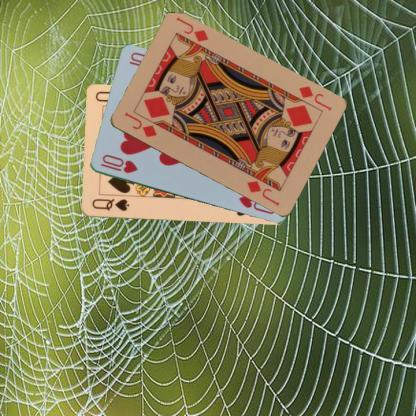10h: (98, 152, 138, 175)
Jd: (122, 109, 158, 139), (296, 83, 333, 112)
Qs: (89, 196, 131, 212)
